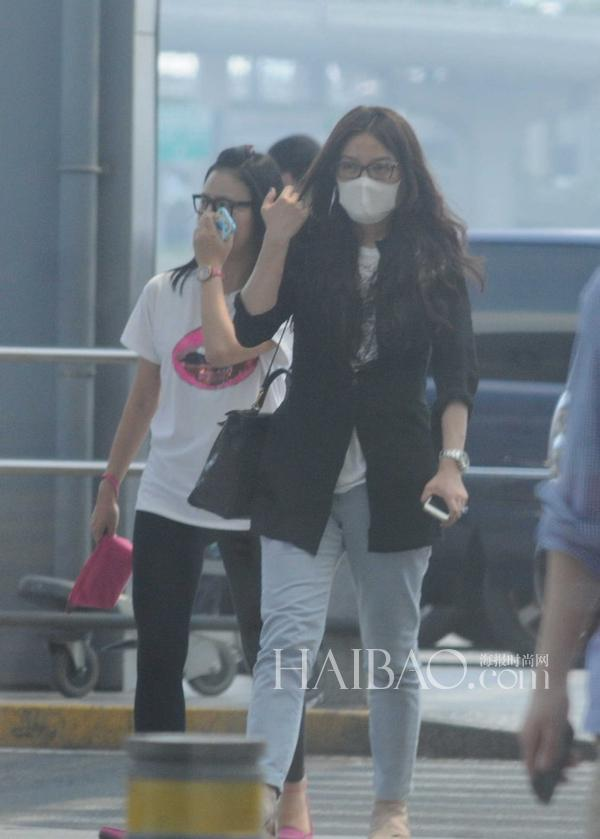NONE: (192, 189, 254, 251)
OK: (331, 152, 407, 222)
